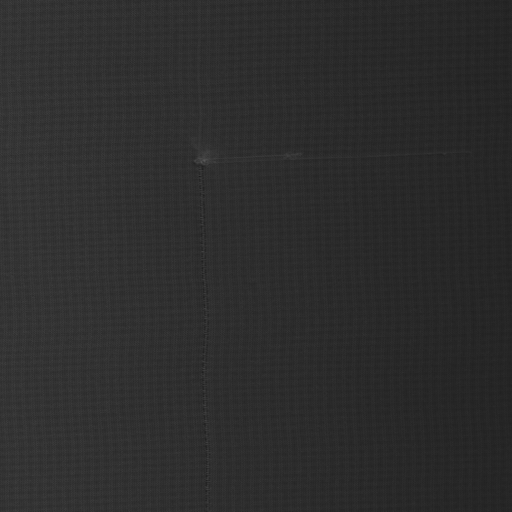defect: (190, 160, 215, 512)
